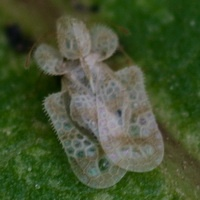insect: (33, 16, 163, 187)
